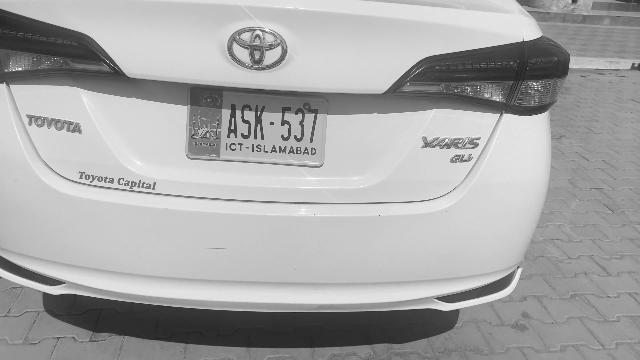Number: (224, 98, 322, 140)
